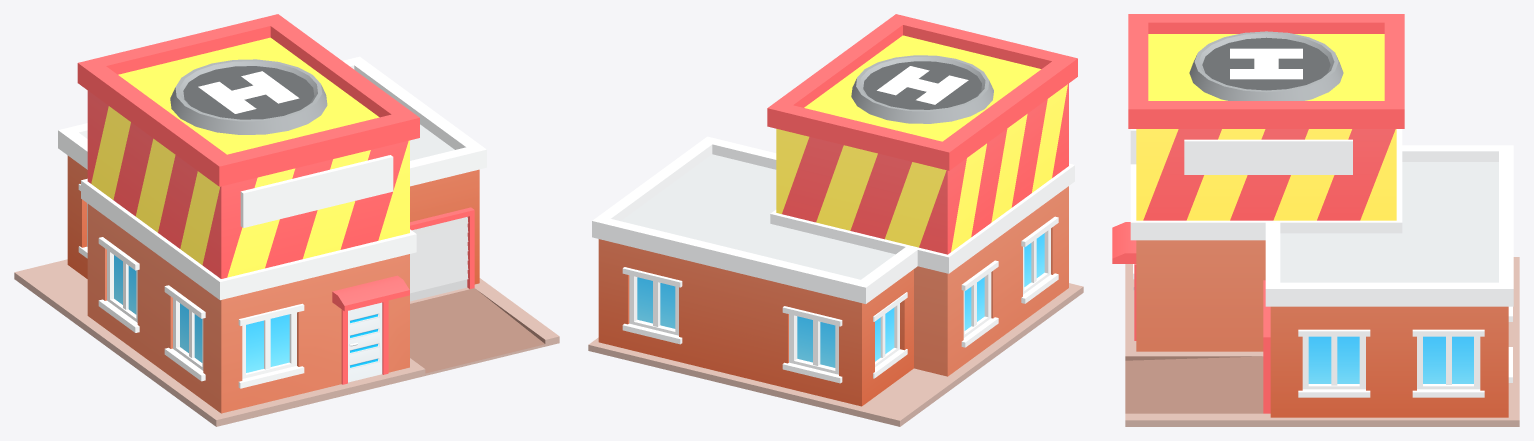
File: Building_Institution_07.glb
3 views of the same model, side by side, from view 1: azimuth 30°, elevation 25°; view 2: azimuth 150°, elevation 25°; view 3: azimuth 270°, elevation 25° (orthographic). The views are drawn at different scales.
Parts seen in each view (by area): view 1: Building_Institution_07; view 2: Building_Institution_07; view 3: Building_Institution_07.
Part boxes in pixels (x1,y1,x2,y2): Building_Institution_07: (14, 14, 559, 426); Building_Institution_07: (588, 14, 1083, 426); Building_Institution_07: (1112, 14, 1519, 426).
Size of the model in its own units: 10.64 by 7.64 by 11.2.
Materials: 1 (1 with a texture image).
